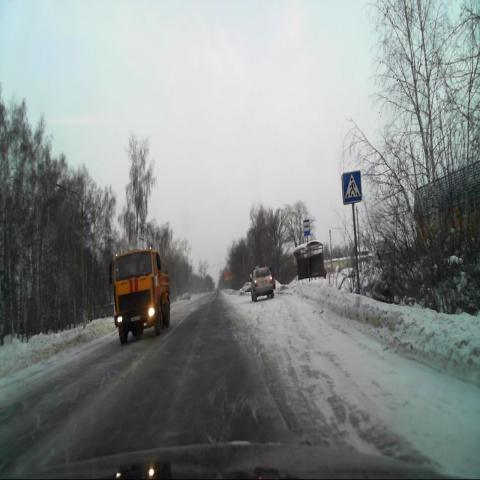5_16: (303, 220, 310, 236)
5_19_1: (341, 170, 362, 204)
